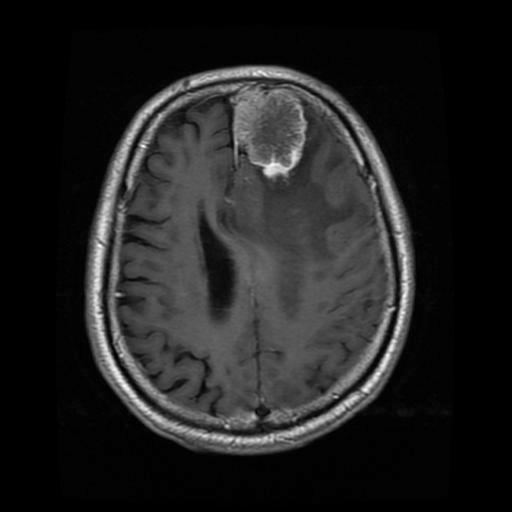Tumour-Pituitary: (219, 82, 339, 212)
